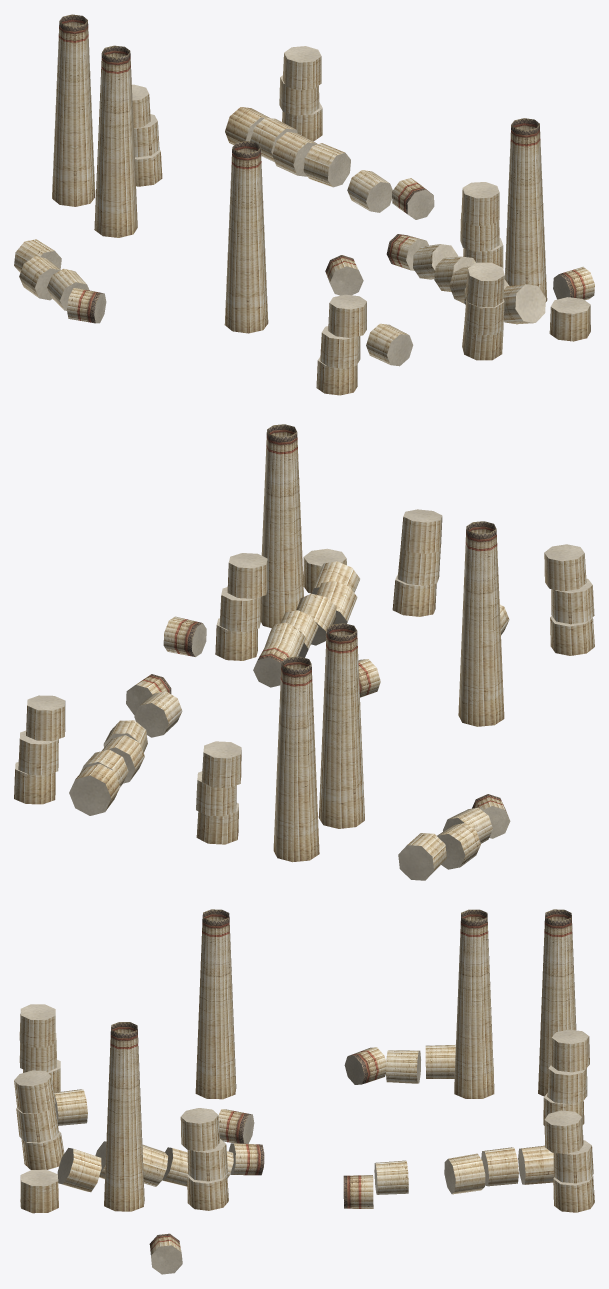
The model's file is temple_unfinished_columns_02.dae.
3 renders of one model, top to bottom at view 1: azimuth 30°, elevation 25°; view 2: azimuth 150°, elevation 25°; view 3: azimuth 270°, elevation 25°, orthographic. The views are drawn at different scales.
Parts seen in each view (by area): view 1: Cylinder_03-Pivot; view 2: Cylinder_03-Pivot; view 3: Cylinder_03-Pivot.
Boxes of the visible parts, left/top/right/bottom form: Cylinder_03-Pivot: left=14, top=14, right=594, bottom=395; Cylinder_03-Pivot: left=14, top=424, right=594, bottom=880; Cylinder_03-Pivot: left=14, top=909, right=594, bottom=1274.
Size of the model in its own units: 22.66 by 27.29 by 10.74.
